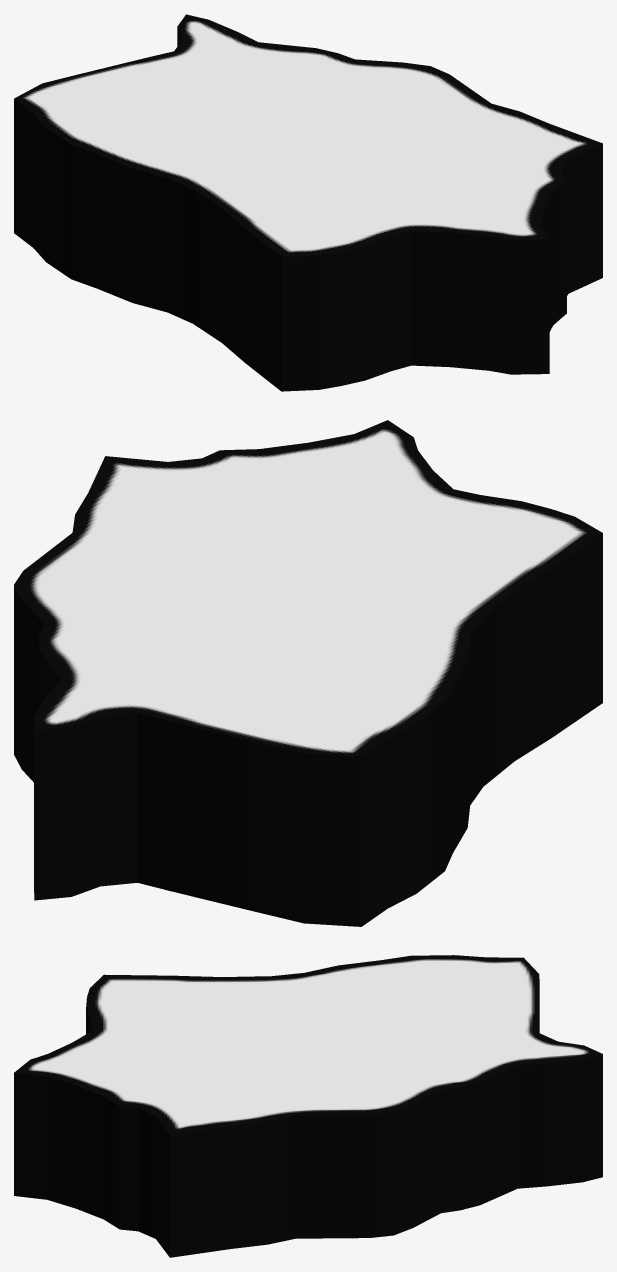
The picture shows the model from 3 angles, top to bottom: view 1: azimuth 30°, elevation 25°; view 2: azimuth 150°, elevation 25°; view 3: azimuth 270°, elevation 25°; orthographic projection. The views are drawn at different scales.
Visible parts, largest first — view 1: polySurface13; view 2: polySurface13; view 3: polySurface13.
Boxes of the visible parts, x1,y1,x2,y2 form: polySurface13: (14,14,602,391); polySurface13: (14,420,602,926); polySurface13: (14,955,602,1257).
Bounding box in the file's own units: 1.56 × 0.5 × 2.17.
